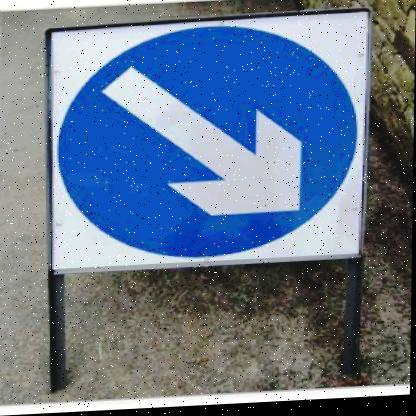Keep right: (46, 19, 358, 278)
